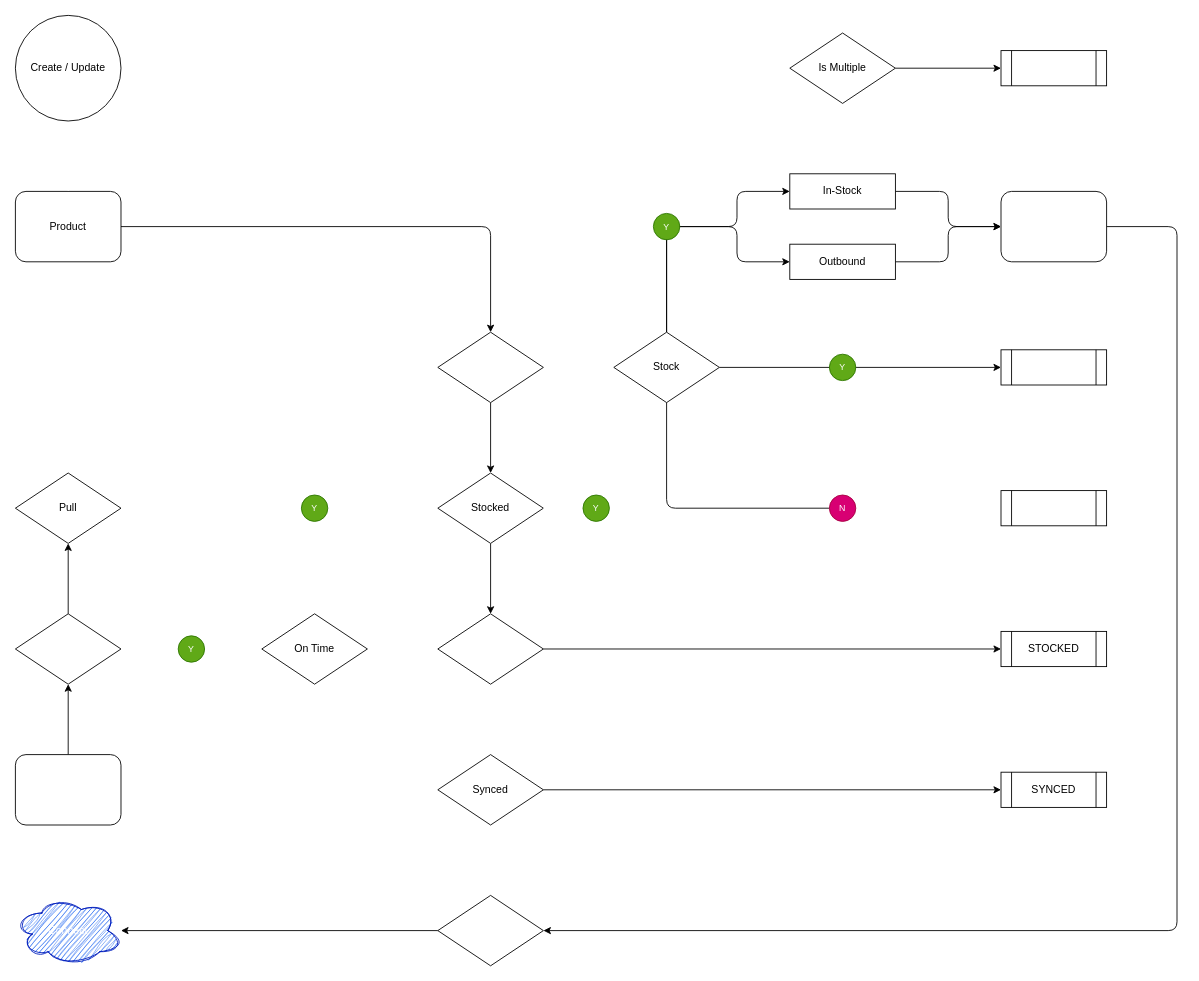
The diagram is 1199 pixels wide and 981 high, and some of its shapes have lost their labels. The shapes that lost their labels are listed below. From the top down, each one's centre as x and y in pixels, then its label:
the point at 1053,68: Multiple
the point at 1053,226: Update Stock
the point at 490,367: Direct
the point at 1053,367: ON_SALE
the point at 1053,508: DRAFT
the point at 68,648: Connected
the point at 490,648: Auto On-Sale
the point at 68,789: XiaoShop
the point at 490,930: Sync Product
